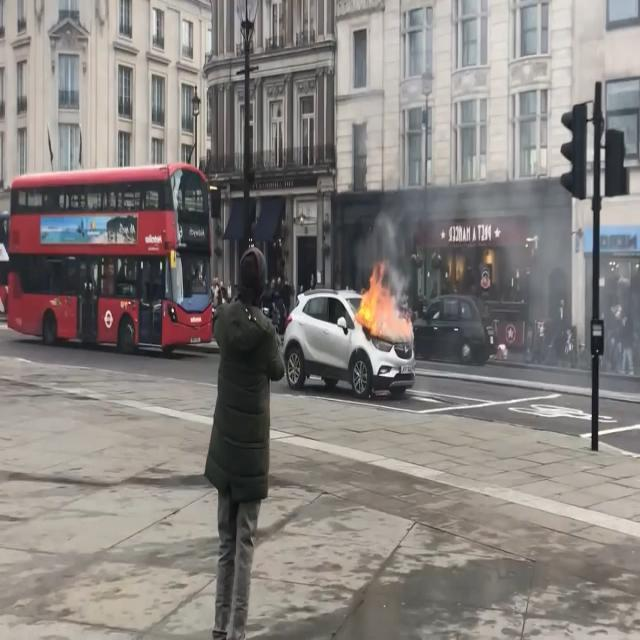fire: (354, 260, 416, 338)
